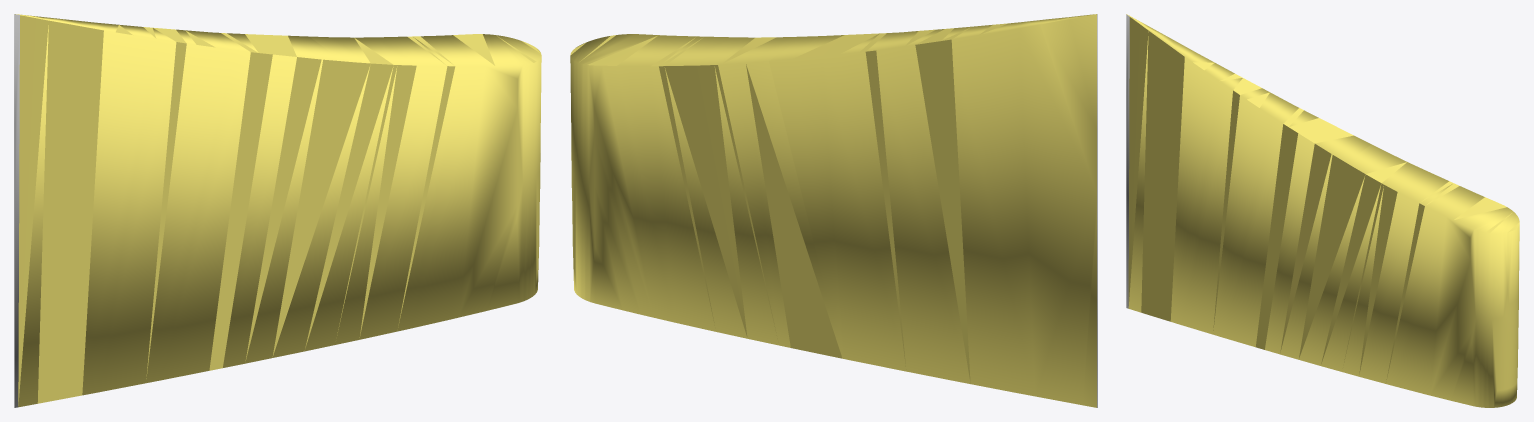
File: aft_fin.dae
3 views of the same model, side by side, from view 1: azimuth 30°, elevation 25°; view 2: azimuth 150°, elevation 25°; view 3: azimuth 330°, elevation 25° (orthographic). The views are drawn at different scales.
Parts seen in each view (by area): view 1: VIFS003; view 2: VIFS003; view 3: VIFS003.
Boxes of the visible parts, x1,y1,x2,y2 form: VIFS003: [14, 14, 541, 407]; VIFS003: [570, 14, 1097, 407]; VIFS003: [1126, 14, 1519, 407].
Bounding box in the file's own units: 0.1713 × 0.0244 × 0.1235.
